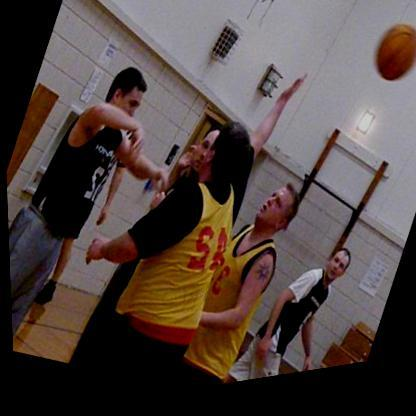basketball: (363, 28, 416, 104)
